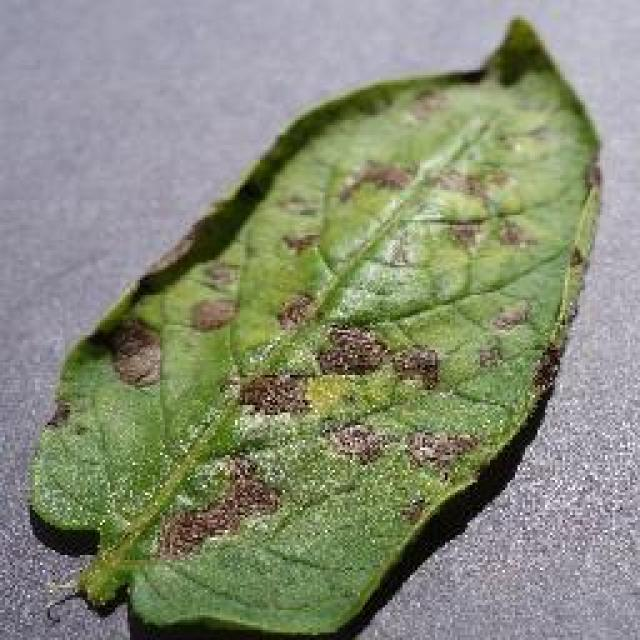early_blight: (22, 12, 608, 638)
